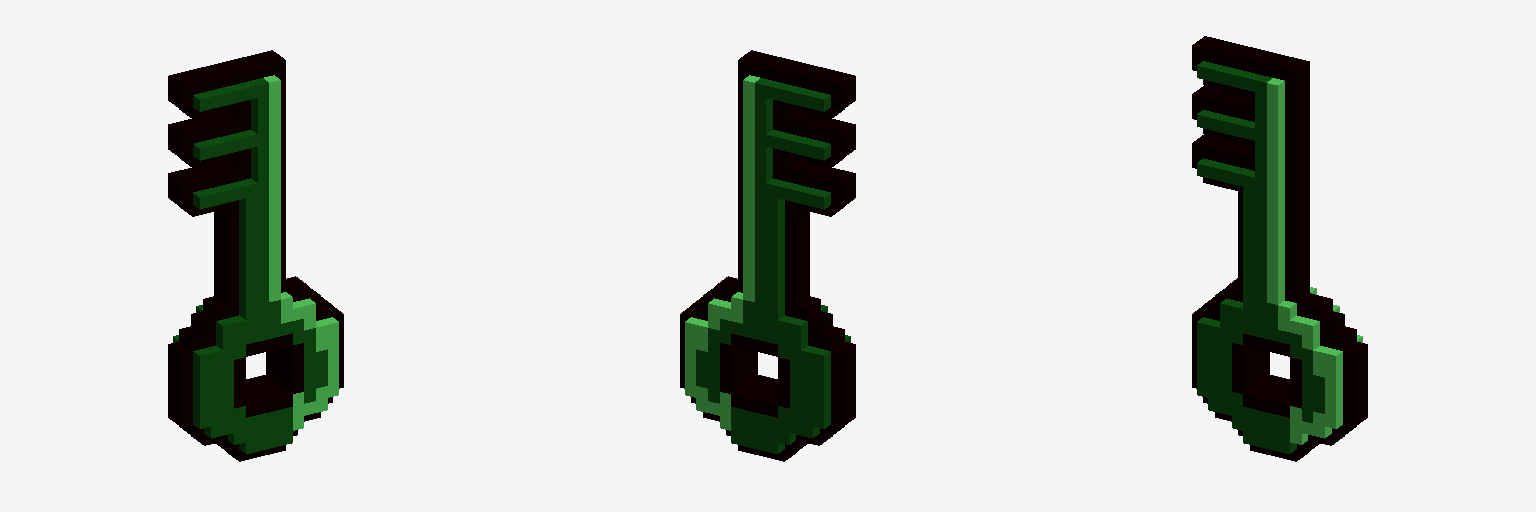
3 renders of one model, left to right at view 1: azimuth 30°, elevation 25°; view 2: azimuth 150°, elevation 25°; view 3: azimuth 330°, elevation 25°, orthographic.
Parts seen in each view (by area): view 1: key-blue-icon; view 2: key-blue-icon; view 3: key-blue-icon.
Boxes of the visible parts, x1,y1,x2,y2 form: key-blue-icon: [168, 50, 343, 461]; key-blue-icon: [680, 50, 855, 461]; key-blue-icon: [1192, 36, 1367, 461].
Size of the model in its own units: 1.4 by 3.2 by 0.4.
Materials: 1 (1 with a texture image).